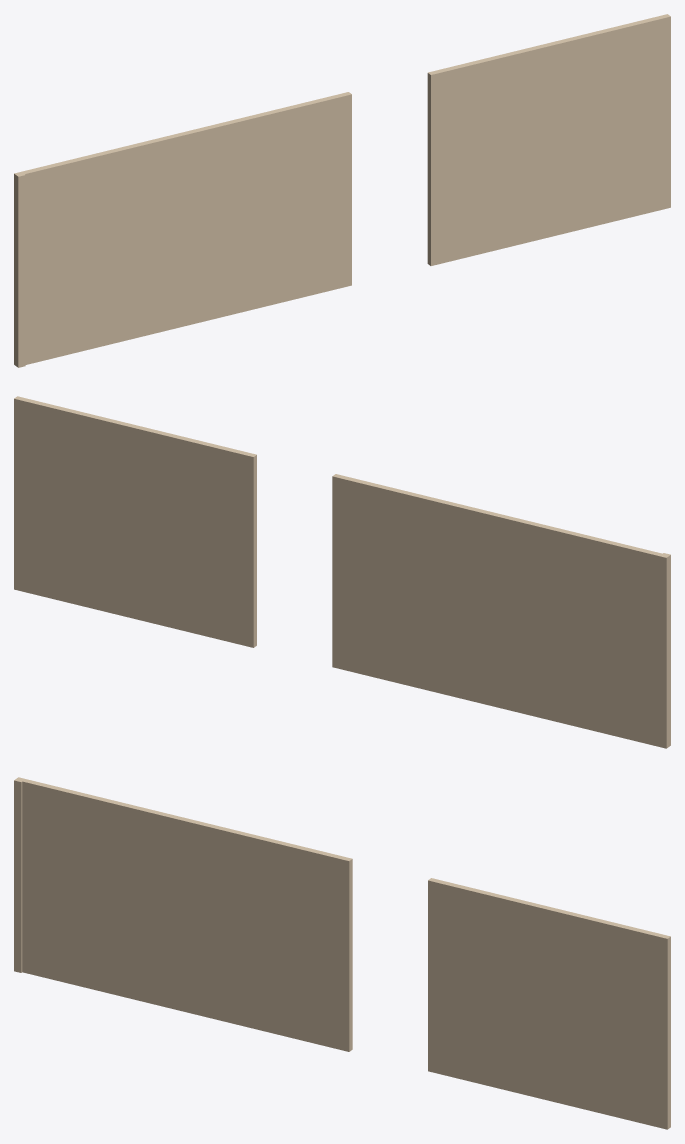
The model's file is Mini_Wall.fbx.
3 renders of one model, top to bottom at view 1: azimuth 30°, elevation 25°; view 2: azimuth 150°, elevation 25°; view 3: azimuth 330°, elevation 25°, orthographic.
Parts seen in each view (by area): view 1: Mini_wall, Mini_wall.001; view 2: Mini_wall, Mini_wall.001; view 3: Mini_wall, Mini_wall.001.
Boxes of the visible parts, left/top/right/bottom form: Mini_wall: left=14, top=92, right=351, bottom=367; Mini_wall.001: left=427, top=14, right=670, bottom=265; Mini_wall: left=332, top=474, right=670, bottom=748; Mini_wall.001: left=14, top=396, right=256, bottom=647; Mini_wall: left=14, top=777, right=352, bottom=1051; Mini_wall.001: left=428, top=878, right=670, bottom=1129.
Bounding box in the file's own units: 1914 × 535 × 22.53.
